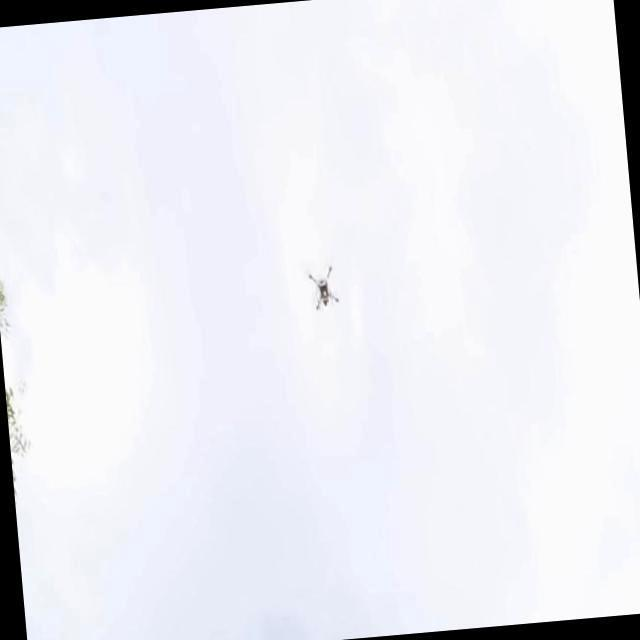drone: (302, 258, 344, 318)
